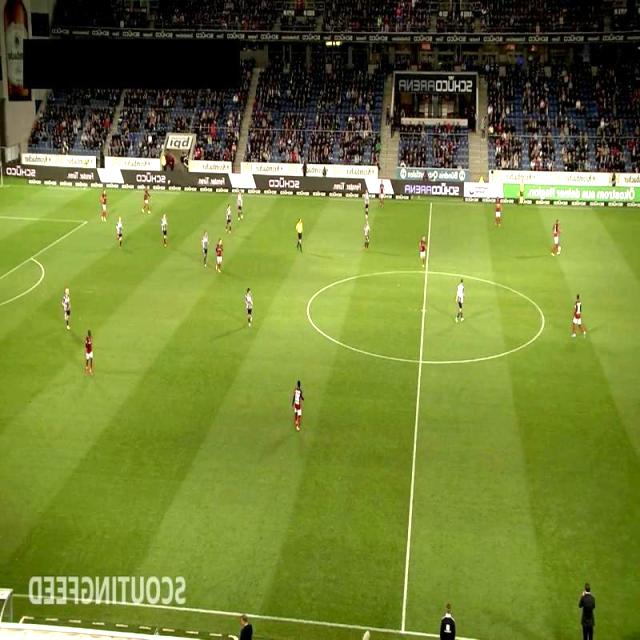bigarea_top_inner: (81, 216, 92, 228)
corner: (0, 179, 5, 191)
halfcircle_bottom: (414, 354, 426, 368)
halfcircle_top: (421, 266, 432, 277)
midline_bottom_intersection: (398, 627, 408, 638)
midline_top_intersection: (426, 198, 436, 208)
top_arc_area_intersection: (26, 253, 36, 264)
